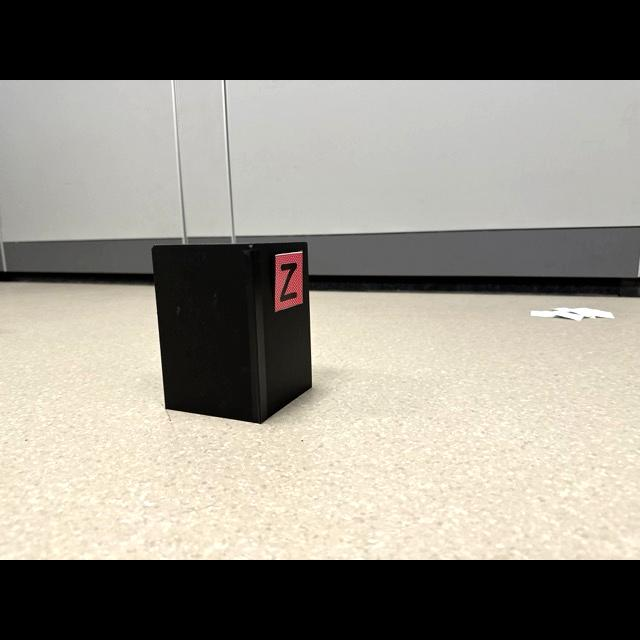Z: (281, 263, 297, 302)
